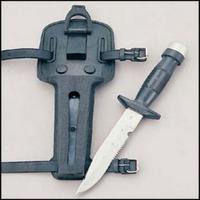knife: (74, 44, 183, 197)
